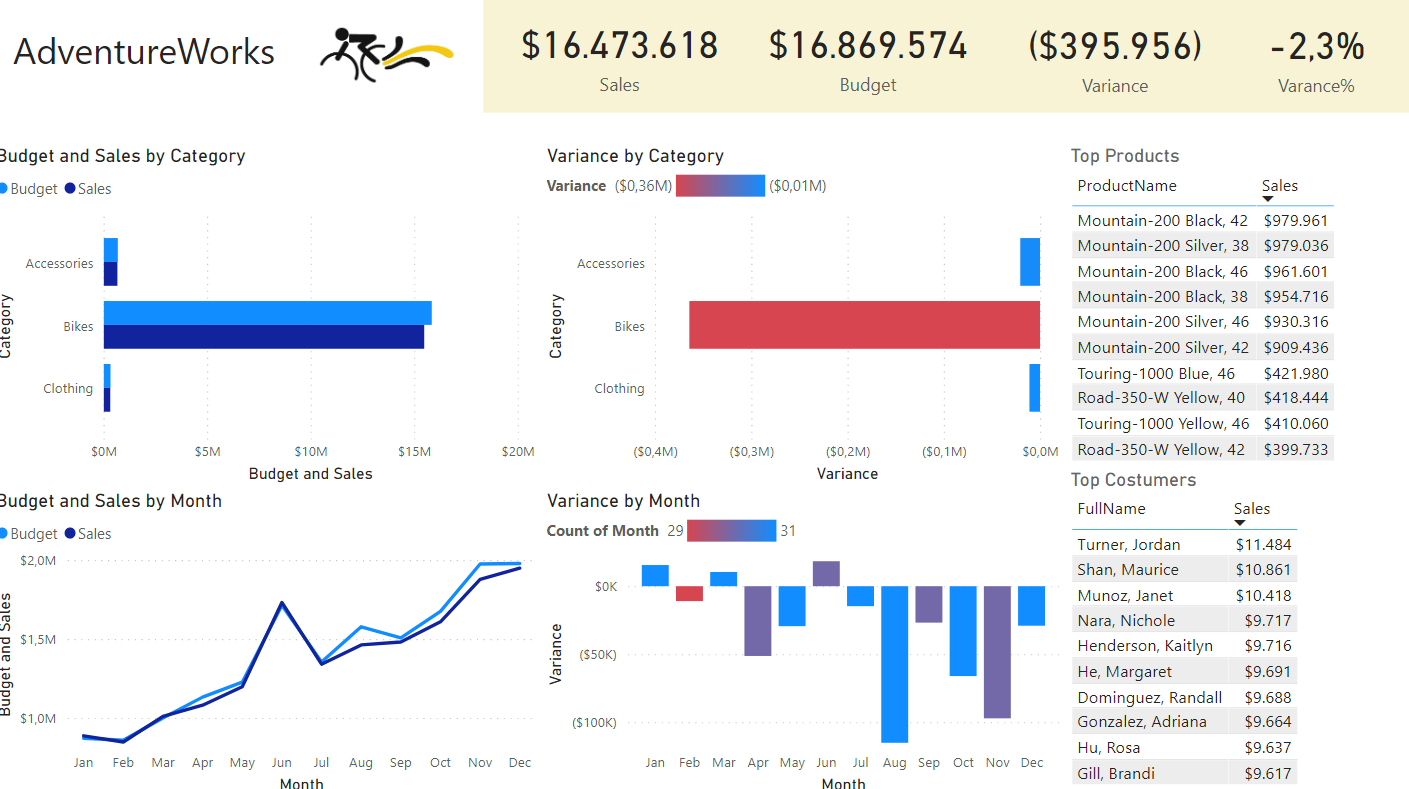

Layout of this report page (visuals, bound fields, positions):
{"tool":"powerbi","page":{"name":"Página 1","canvas":[1280,720],"ordinal":0},"visuals":[{"type":"basicShape","box":[432.7,3.6,847.3,104.2],"z":0},{"type":"textbox","box":[15.8,23,280,61.8],"z":1000},{"type":"image","box":[283.6,7.3,137,94.5],"z":2000},{"type":"card","fields":{"Values":["Budget.Budget"]},"box":[686.1,0,197.6,106.7],"z":3000},{"type":"card","fields":{"Values":["Budget.Variance"]},"box":[895.8,1.2,221.8,106.7],"z":4000},{"type":"card","fields":{"Values":["Sales.Sales"]},"box":[459.4,0,207.3,106.7],"z":5000},{"type":"card","fields":{"Values":["Budget.Varance%"]},"box":[1092.1,1.2,187.9,106.7],"z":6000},{"type":"clusteredBarChart","fields":{"Y":["Budget.Budget","Sales.Sales"],"Category":["Product.Category","Product.SubCategory"]},"box":[0,134.5,493.3,307.9],"z":7000},{"type":"clusteredBarChart","fields":{"Category":["Product.Category","Product.SubCategory"],"Y":["Budget.Variance"]},"box":[493.3,134.5,467.9,307.9],"z":8000},{"type":"lineChart","fields":{"Y":["Budget.Budget","Sales.Sales"],"Category":["Calendar.Month"]},"box":[0,442.4,493.3,277.6],"z":9000},{"type":"clusteredColumnChart","fields":{"Category":["Calendar.Month"],"Y":["Budget.Variance"]},"box":[493.3,442.4,467.9,277.6],"z":10000},{"type":"tableEx","title":"Top Products","fields":{"Values":["Product.ProductName","Sales.Sales"]},"box":[961.2,134.5,318.8,289.7],"z":11000},{"type":"tableEx","title":"Top Costumers","fields":{"Values":["Customer.FullName","Sales.Sales"]},"box":[961.2,424.2,318.8,295.8],"z":12000}]}

Visuals, with their boxes in screenshot pixels (x1, y1, x2, y2), scaled from the page's 1280x720 canvas onto the 1409x789 screenshot:
basicShape: {"x1": 476, "y1": 4, "x2": 1408, "y2": 118}
textbox: {"x1": 17, "y1": 25, "x2": 326, "y2": 93}
image: {"x1": 312, "y1": 8, "x2": 463, "y2": 112}
card - Budget.Budget: {"x1": 755, "y1": 0, "x2": 973, "y2": 117}
card - Budget.Variance: {"x1": 986, "y1": 1, "x2": 1230, "y2": 118}
card - Sales.Sales: {"x1": 506, "y1": 0, "x2": 734, "y2": 117}
card - Budget.Varance%: {"x1": 1202, "y1": 1, "x2": 1408, "y2": 118}
clusteredBarChart - Budget.Budget x Sales.Sales: {"x1": 0, "y1": 147, "x2": 543, "y2": 485}
clusteredBarChart - Product.Category x Product.SubCategory: {"x1": 543, "y1": 147, "x2": 1058, "y2": 485}
lineChart - Budget.Budget x Sales.Sales: {"x1": 0, "y1": 485, "x2": 543, "y2": 788}
clusteredColumnChart - Calendar.Month x Budget.Variance: {"x1": 543, "y1": 485, "x2": 1058, "y2": 788}
"Top Products" tableEx: {"x1": 1058, "y1": 147, "x2": 1408, "y2": 465}
"Top Costumers" tableEx: {"x1": 1058, "y1": 465, "x2": 1408, "y2": 788}
